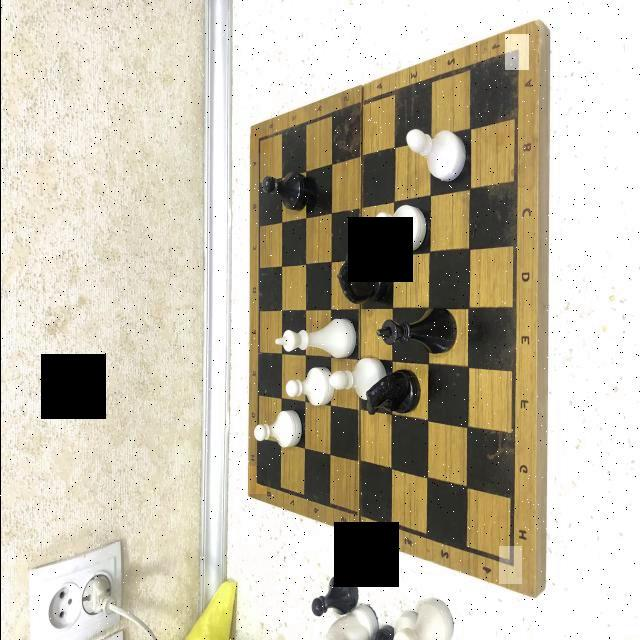chess-table-corners: (498, 546, 521, 584), (504, 34, 528, 70), (248, 466, 266, 494), (251, 129, 268, 153)
